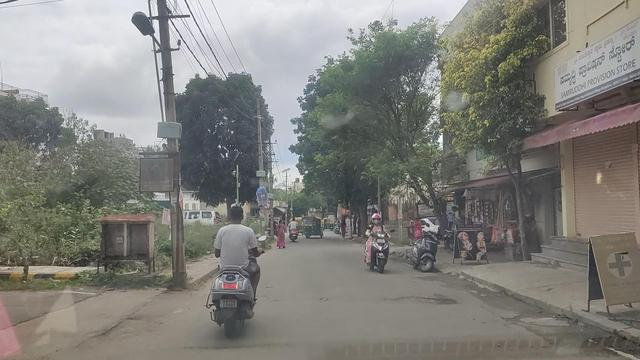LMV: (219, 204, 260, 335), (369, 213, 392, 274)
RoadDamages: (385, 289, 464, 316), (312, 288, 333, 309)
